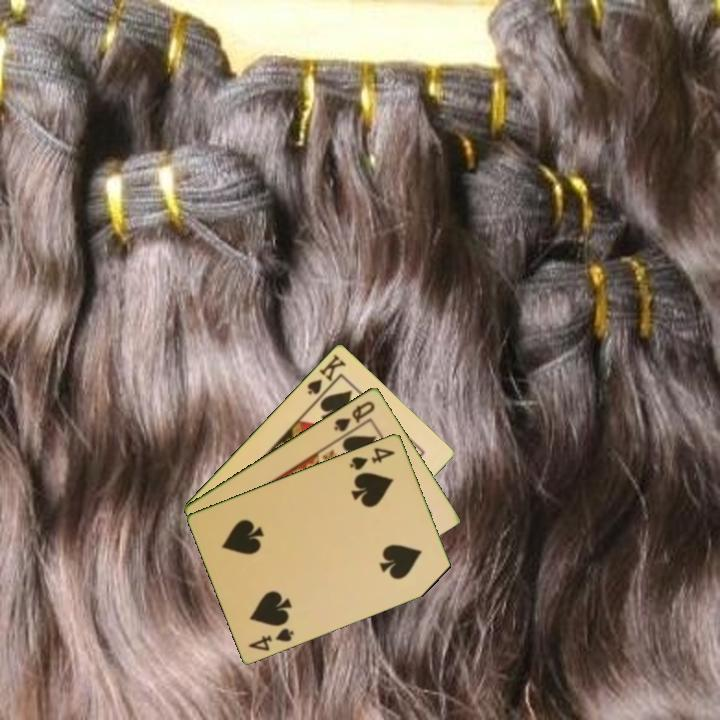4s: (346, 443, 398, 473), (245, 624, 297, 654)
Ks: (304, 350, 349, 403)
Qs: (330, 397, 378, 434)
